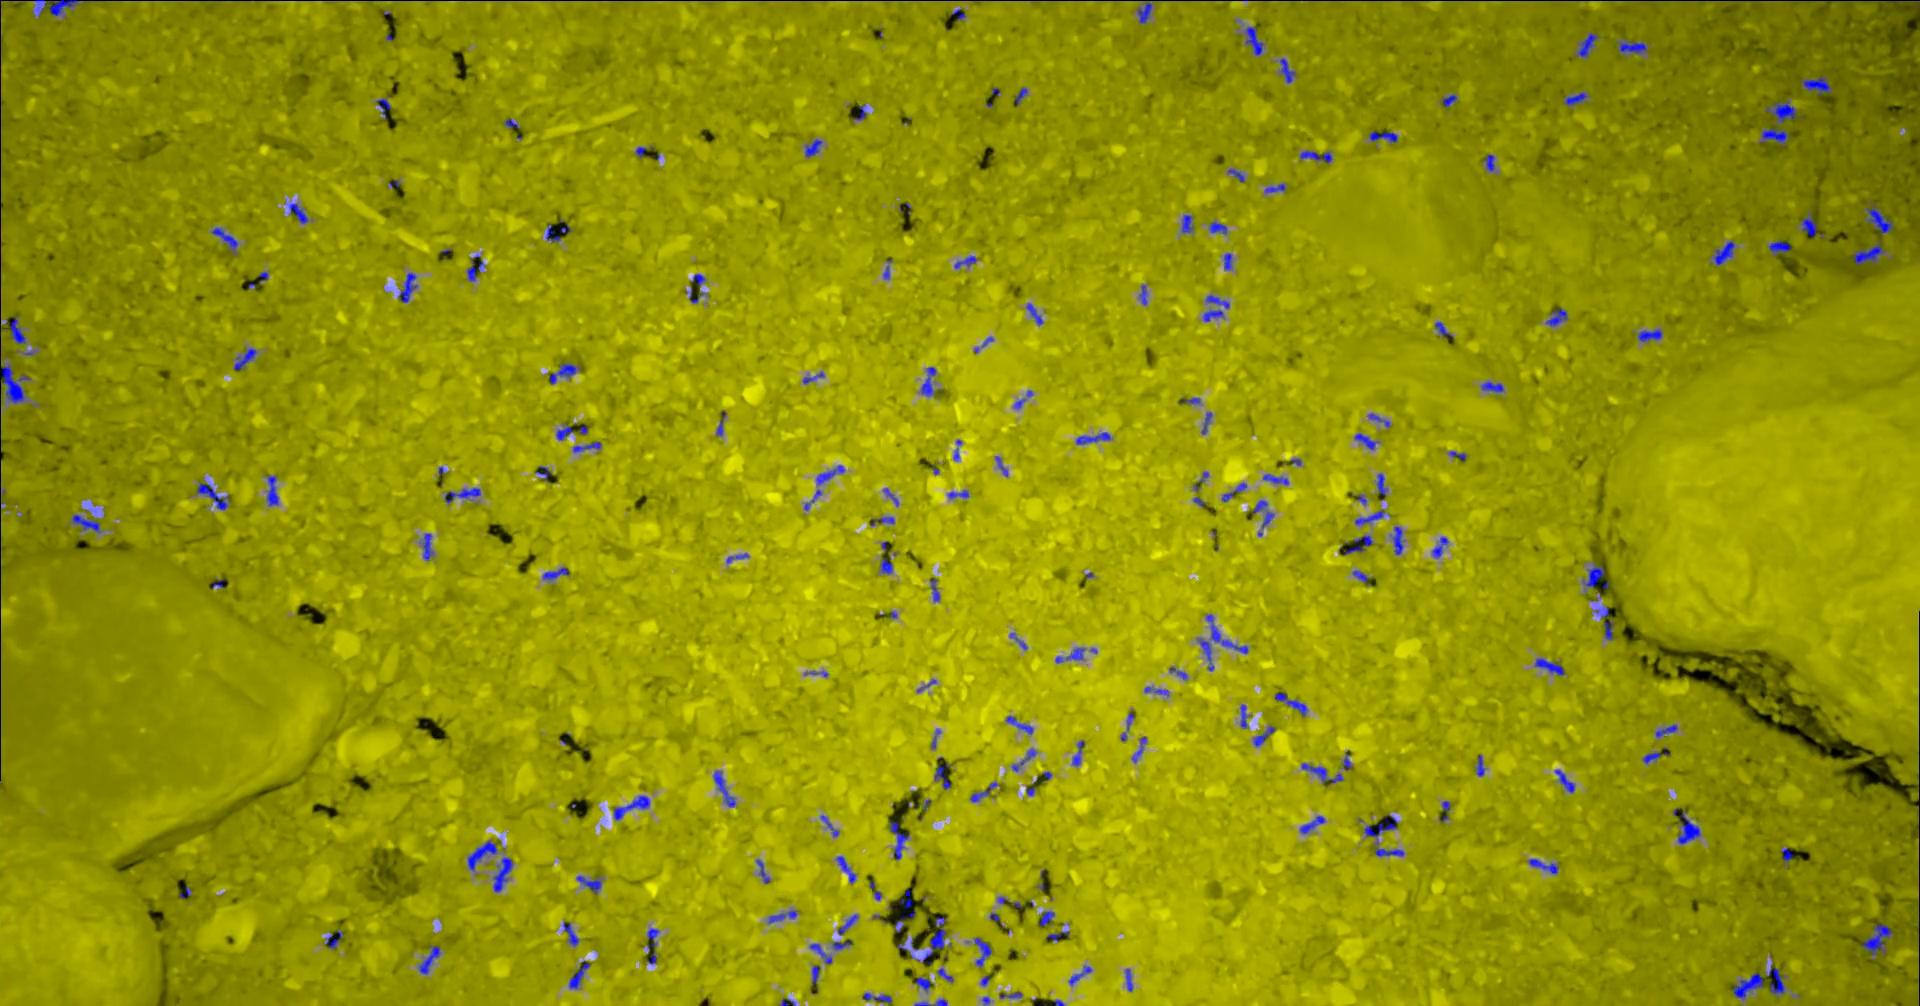ant: (803, 464, 844, 511), (1205, 614, 1247, 653), (916, 916, 945, 964), (0, 363, 30, 403), (1672, 807, 1700, 843), (1860, 923, 1892, 954), (1363, 814, 1396, 843), (196, 481, 229, 509), (613, 795, 649, 821), (467, 840, 497, 870), (1302, 762, 1342, 784), (34, 0, 91, 15), (1865, 203, 1893, 234), (1731, 972, 1763, 998), (1851, 239, 1884, 264), (888, 821, 909, 859), (712, 771, 735, 807), (1766, 100, 1801, 123), (1274, 691, 1305, 715), (491, 857, 512, 892), (0, 316, 25, 343), (211, 227, 237, 251), (568, 960, 590, 988), (418, 945, 439, 974), (444, 486, 480, 503), (1595, 606, 1613, 639), (1801, 76, 1831, 95), (397, 272, 417, 302), (1011, 748, 1036, 771), (549, 362, 575, 384), (969, 781, 997, 801), (1244, 25, 1263, 55), (1712, 240, 1735, 264), (232, 347, 257, 370), (1576, 32, 1597, 57), (1759, 127, 1789, 145), (1534, 657, 1564, 674), (1343, 535, 1371, 554), (836, 855, 855, 882), (1528, 857, 1558, 874), (1768, 964, 1784, 995), (71, 514, 99, 532), (1004, 715, 1032, 733), (894, 909, 916, 932), (1554, 768, 1575, 793), (1197, 638, 1213, 669), (1055, 647, 1084, 663), (974, 937, 990, 967), (1076, 431, 1110, 445), (1642, 746, 1669, 763), (1354, 509, 1384, 525), (1583, 564, 1604, 587), (1222, 481, 1246, 500), (1299, 815, 1324, 833), (919, 366, 935, 395), (809, 942, 830, 963), (1068, 965, 1091, 984), (466, 255, 484, 279), (577, 875, 601, 893), (1299, 150, 1332, 163), (1257, 511, 1274, 536), (1545, 307, 1567, 326), (1253, 727, 1275, 746), (1617, 39, 1646, 53), (690, 273, 703, 302), (646, 927, 658, 963), (1354, 432, 1378, 448), (768, 909, 796, 923), (288, 203, 307, 224), (265, 475, 278, 506), (935, 763, 950, 789), (837, 915, 857, 934), (563, 921, 578, 946), (1131, 735, 1145, 762), (862, 992, 891, 1005), (1279, 58, 1294, 83), (1026, 304, 1043, 325), (1431, 536, 1448, 558), (1801, 213, 1816, 236), (804, 138, 822, 158), (542, 567, 569, 579), (325, 929, 343, 948), (1205, 293, 1229, 307), (756, 857, 770, 882), (1368, 131, 1397, 142), (1637, 328, 1662, 340), (1137, 0, 1150, 23), (1564, 91, 1587, 105), (1768, 240, 1790, 254), (571, 441, 599, 452), (1392, 526, 1403, 554), (375, 97, 390, 117), (1072, 741, 1084, 765), (422, 533, 433, 560), (954, 255, 977, 268), (1262, 473, 1288, 484), (1655, 724, 1677, 737), (1377, 473, 1387, 500), (545, 224, 560, 241), (1434, 321, 1451, 337), (1481, 381, 1503, 392), (1200, 412, 1211, 434), (1203, 309, 1223, 321), (1037, 911, 1054, 926), (1227, 168, 1244, 182), (1144, 686, 1168, 696), (1015, 86, 1027, 105), (1780, 847, 1793, 866), (899, 889, 910, 909), (1046, 930, 1069, 940), (535, 466, 551, 480), (1208, 221, 1225, 234), (1374, 848, 1403, 856), (1483, 152, 1495, 171), (1181, 213, 1192, 232), (870, 516, 894, 525), (1239, 704, 1248, 728), (556, 426, 571, 439), (916, 976, 930, 991), (914, 998, 947, 1005), (930, 578, 938, 601), (1441, 94, 1457, 107), (1252, 500, 1267, 513), (1352, 569, 1368, 582), (832, 939, 851, 949), (1263, 183, 1285, 192), (1476, 754, 1484, 776), (1441, 800, 1450, 822), (880, 558, 891, 573), (999, 991, 1022, 998), (811, 965, 820, 984), (1223, 251, 1232, 269), (947, 490, 968, 498), (1125, 968, 1131, 991), (1823, 0, 1919, 1)
